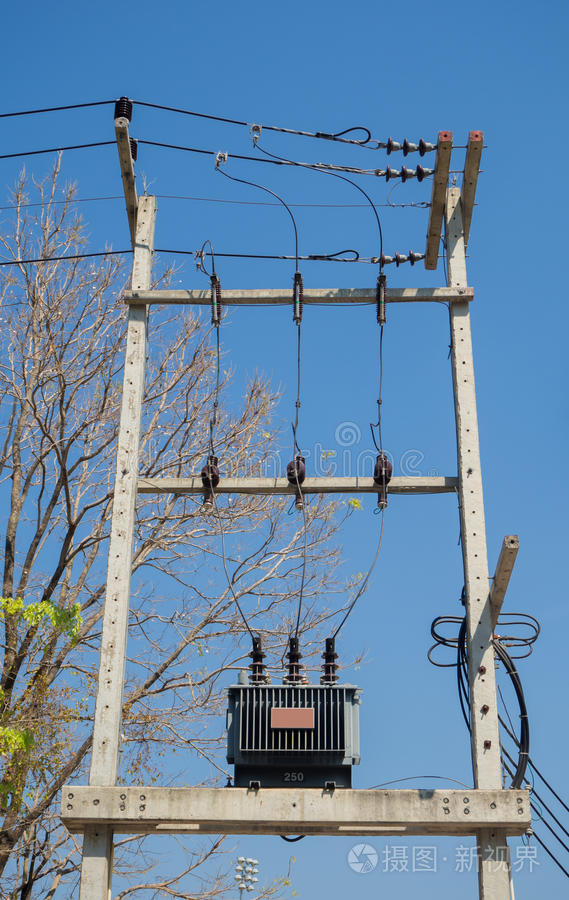insulator: (377, 250, 423, 270), (380, 166, 426, 185), (317, 649, 342, 683), (244, 649, 271, 680), (384, 139, 428, 158), (282, 648, 304, 684)
